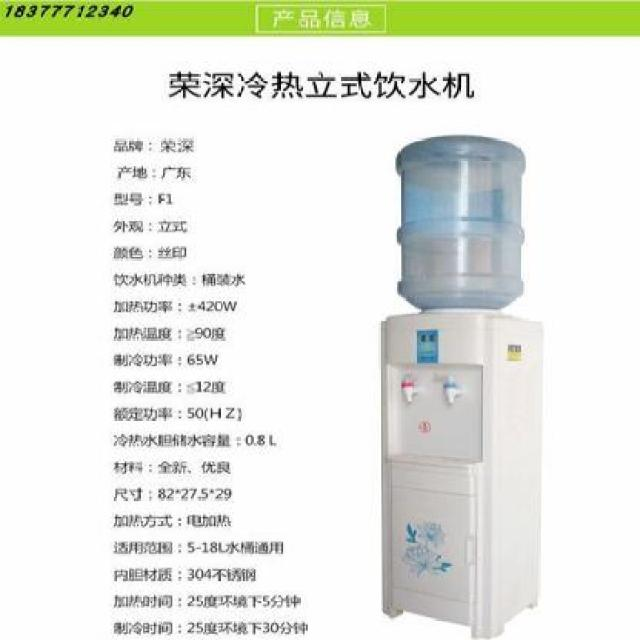cooler: (377, 132, 541, 640)
